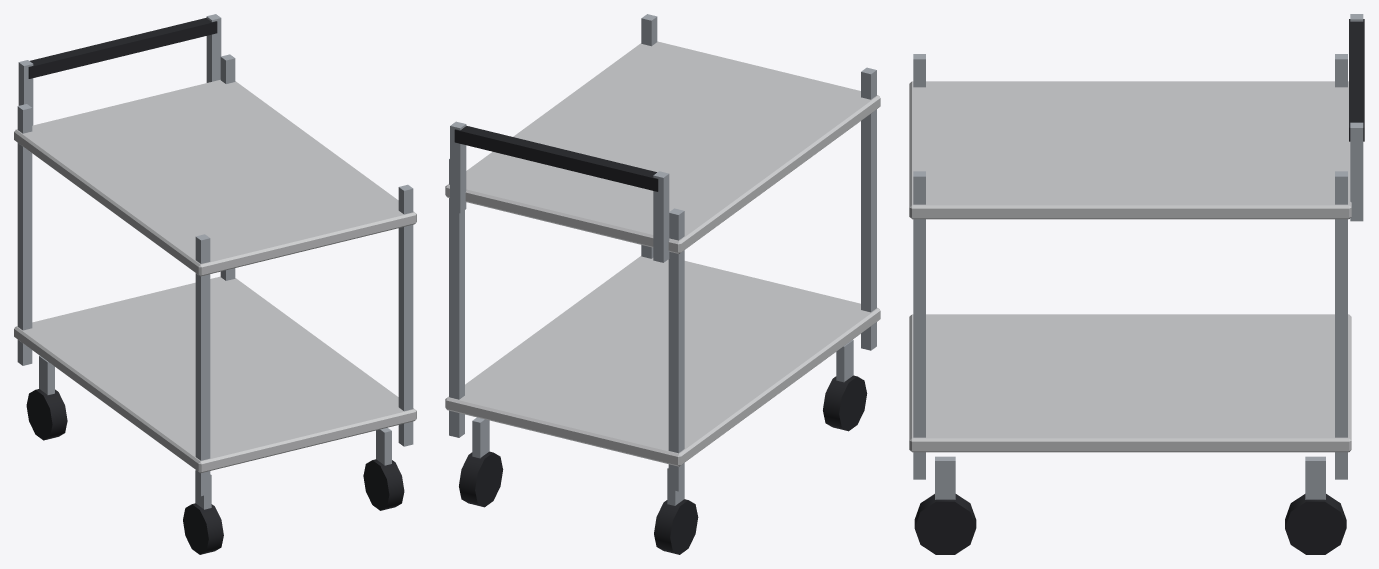
The model's file is trolley_cart.glb.
3 views of the same model, side by side, from view 1: azimuth 30°, elevation 25°; view 2: azimuth 150°, elevation 25°; view 3: azimuth 270°, elevation 25° (orthographic). The views are drawn at different scales.
Visible parts, largest first — view 1: trolley_cart; view 2: trolley_cart; view 3: trolley_cart.
Part boxes in pixels (<box>): trolley_cart: <box>14,14,416,554</box>; trolley_cart: <box>445,14,880,554</box>; trolley_cart: <box>909,14,1364,554</box>.
Bounding box in the file's own units: 0.58 × 0.9171 × 0.885.
Materials: 1 (1 with a texture image).
